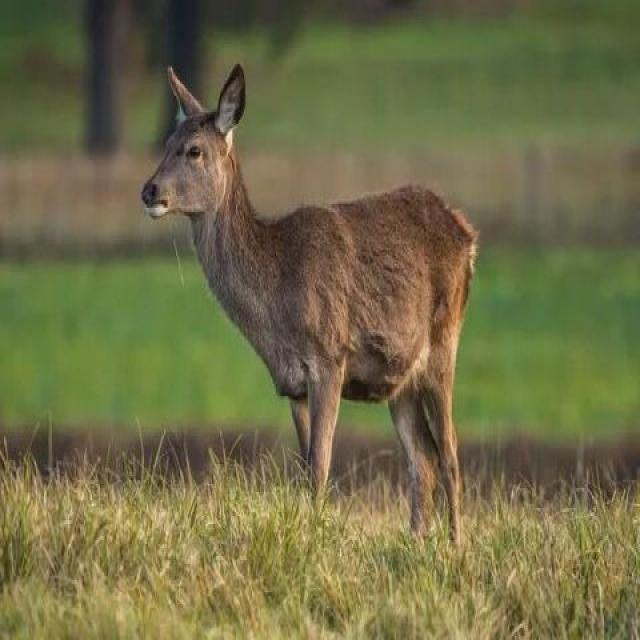deer: (156, 121, 473, 514)
